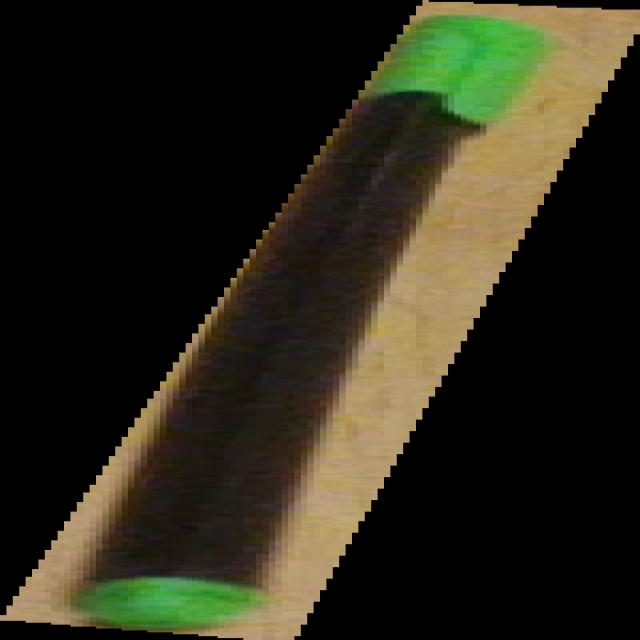green: (1, 1, 640, 640)
